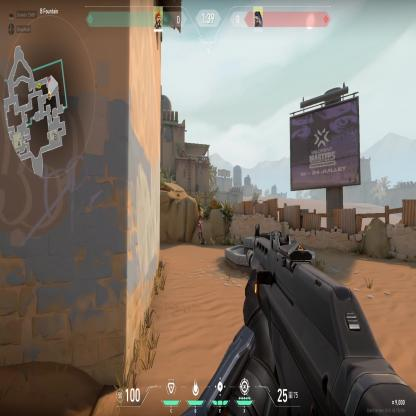enemy: (198, 217, 206, 247)
